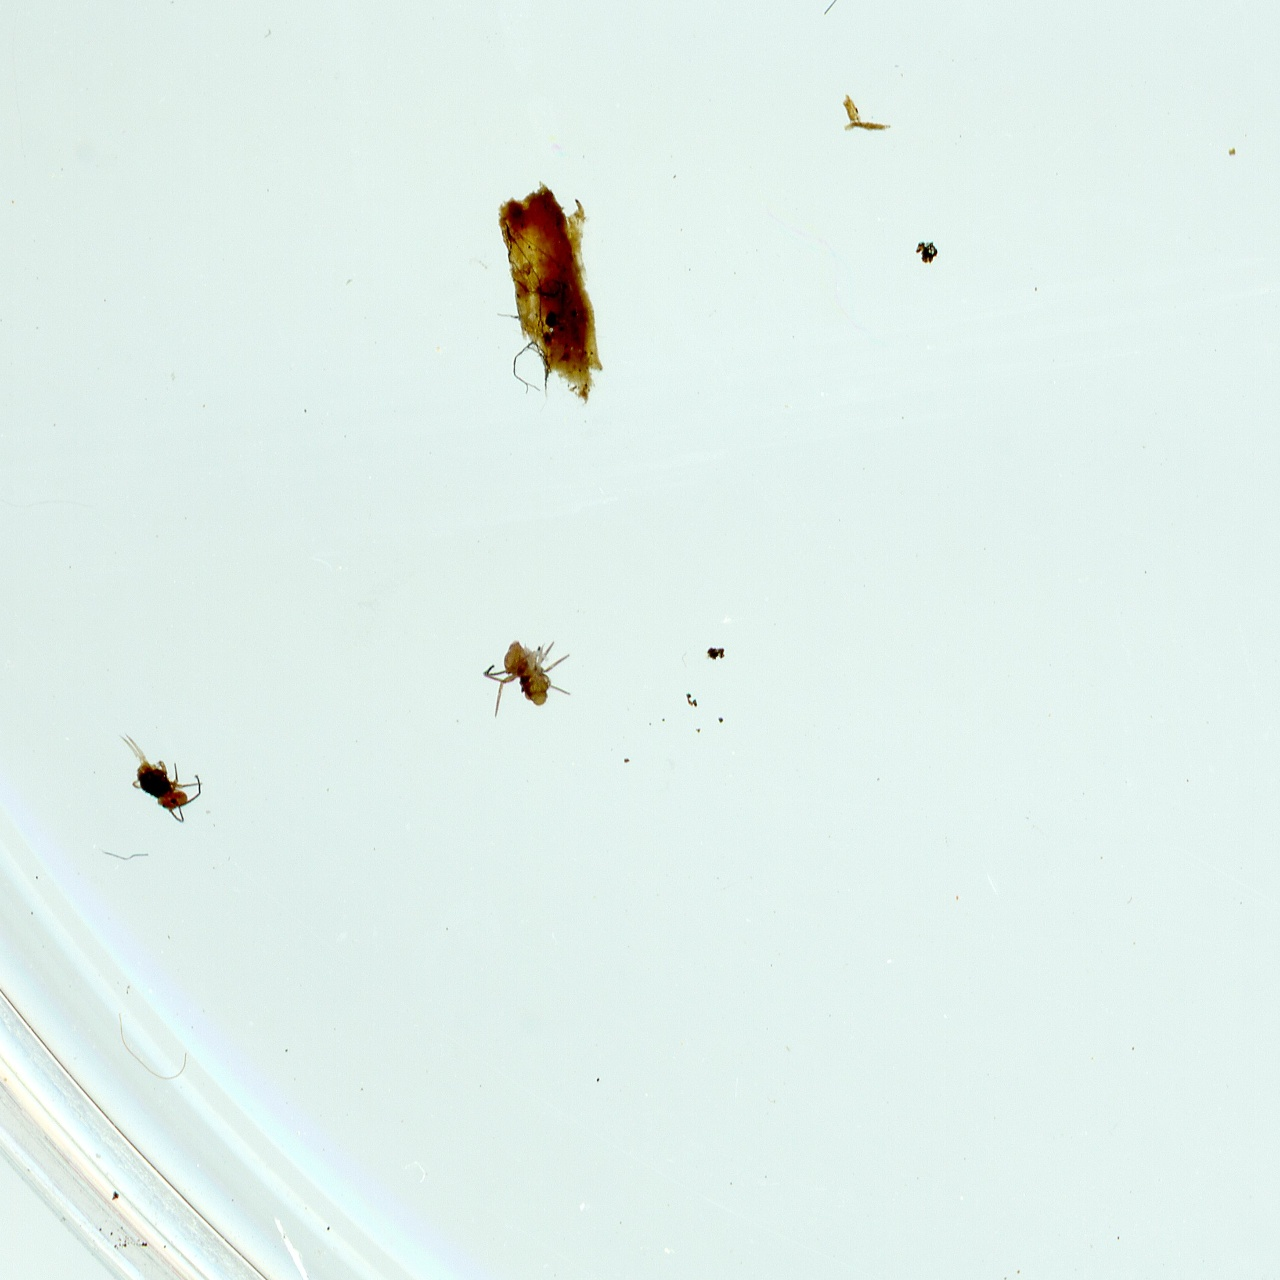arthropod: (102, 727, 216, 837), (476, 633, 582, 727)
